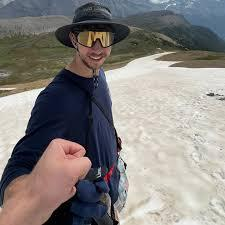cap: (53, 1, 136, 48)
sunglasses: (75, 30, 118, 51)
